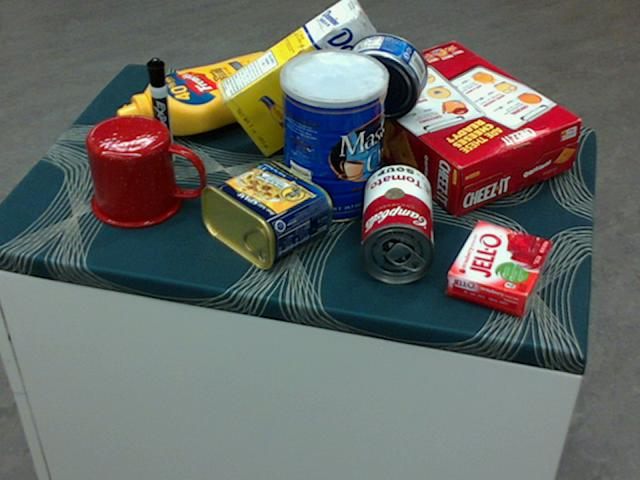cracker_box: (339, 40, 578, 216)
gelatin_box: (446, 220, 550, 314)
large_marker: (144, 57, 175, 164)
master_chef_can: (279, 50, 387, 224)
mug: (86, 114, 203, 228)
mustard_bottle: (114, 51, 289, 135)
potted_meat_can: (198, 160, 331, 269)
sugar_box: (213, 0, 398, 158)
tomato_soup_can: (357, 163, 433, 282)
tuna_fish_can: (340, 31, 427, 118)
